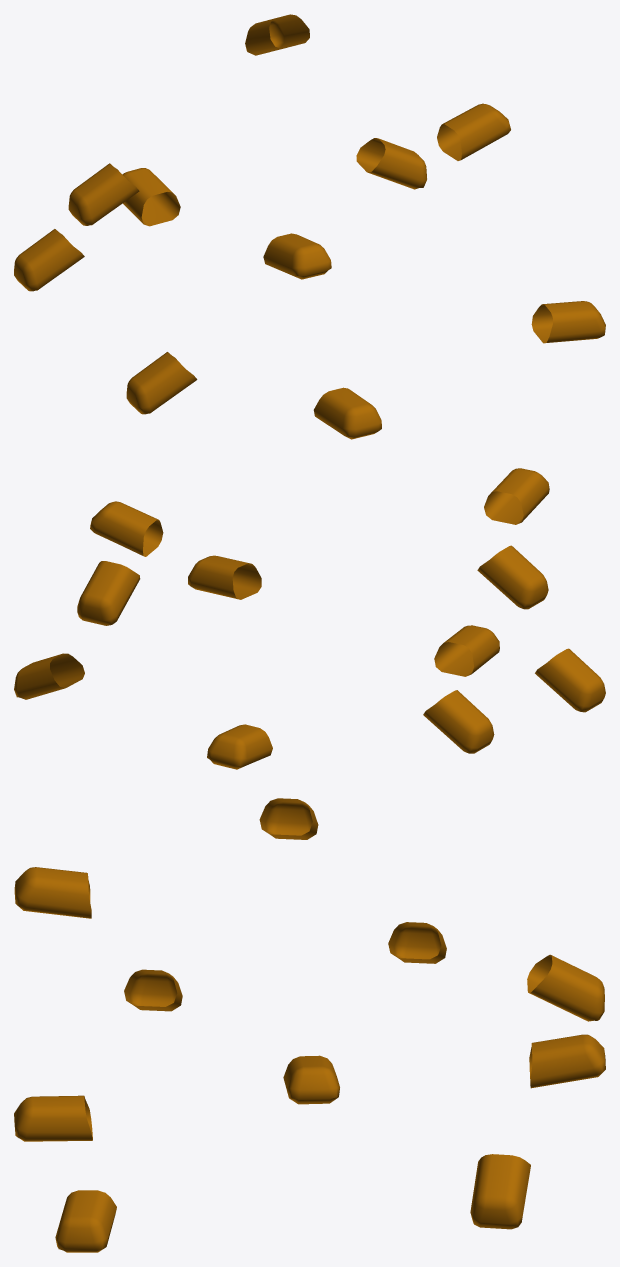
File: Gold_cube (2).fbx
3 renders of one model, top to bottom at view 1: azimuth 30°, elevation 25°; view 2: azimuth 150°, elevation 25°; view 3: azimuth 270°, elevation 25°, orthographic. The views are drawn at different scales.
Visible parts, largest first — view 1: Slitok11; view 2: Slitok11; view 3: Slitok11.
Boxes of the visible parts, box(x1,y1,x2,y2) form: Slitok11: box(14, 14, 605, 439); Slitok11: box(14, 468, 605, 769); Slitok11: box(14, 798, 605, 1252).
Bounding box in the file's own units: 15.6 × 7.47 × 15.49.
